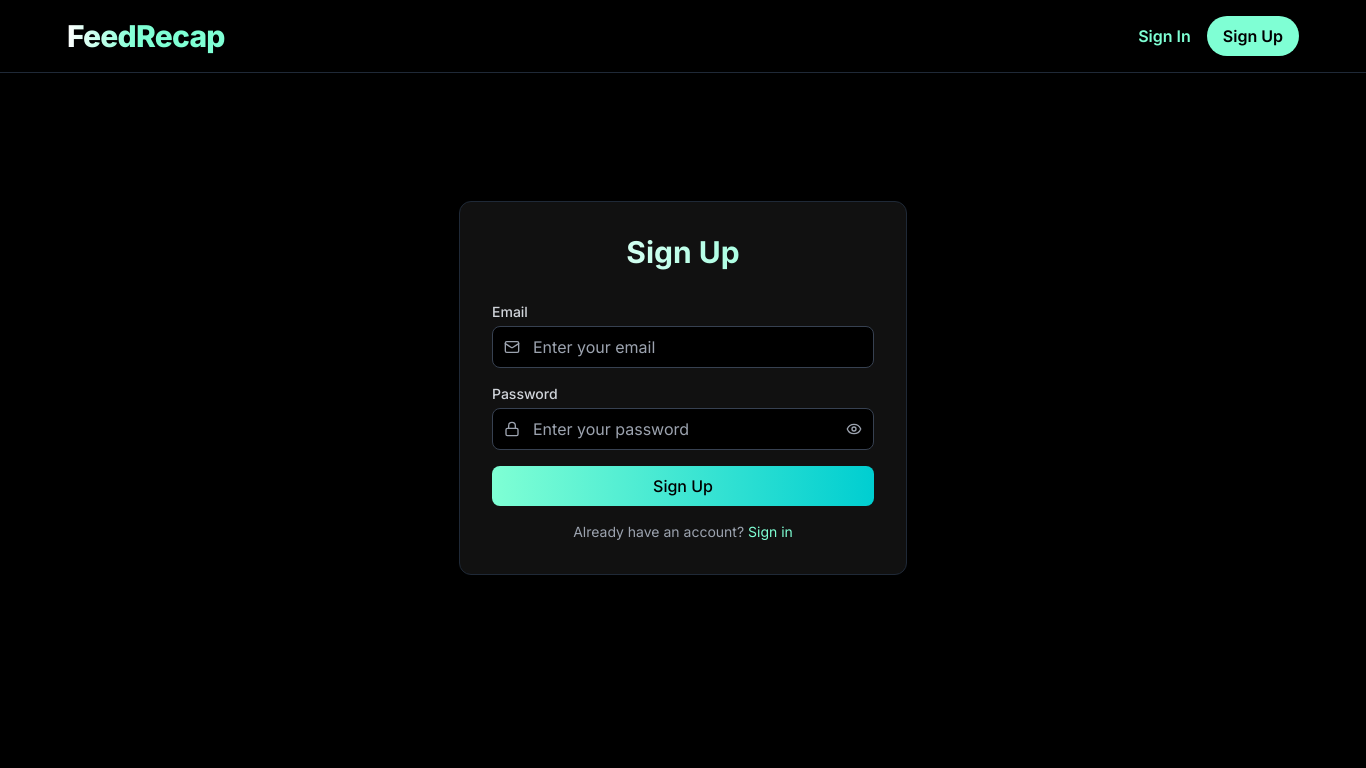
Test case: Signup page › shows an invalid-email error
In the field with placeholder "Enter your email": point(683, 347) x1=492 y1=326 x2=874 y2=368, type "not-an-email"
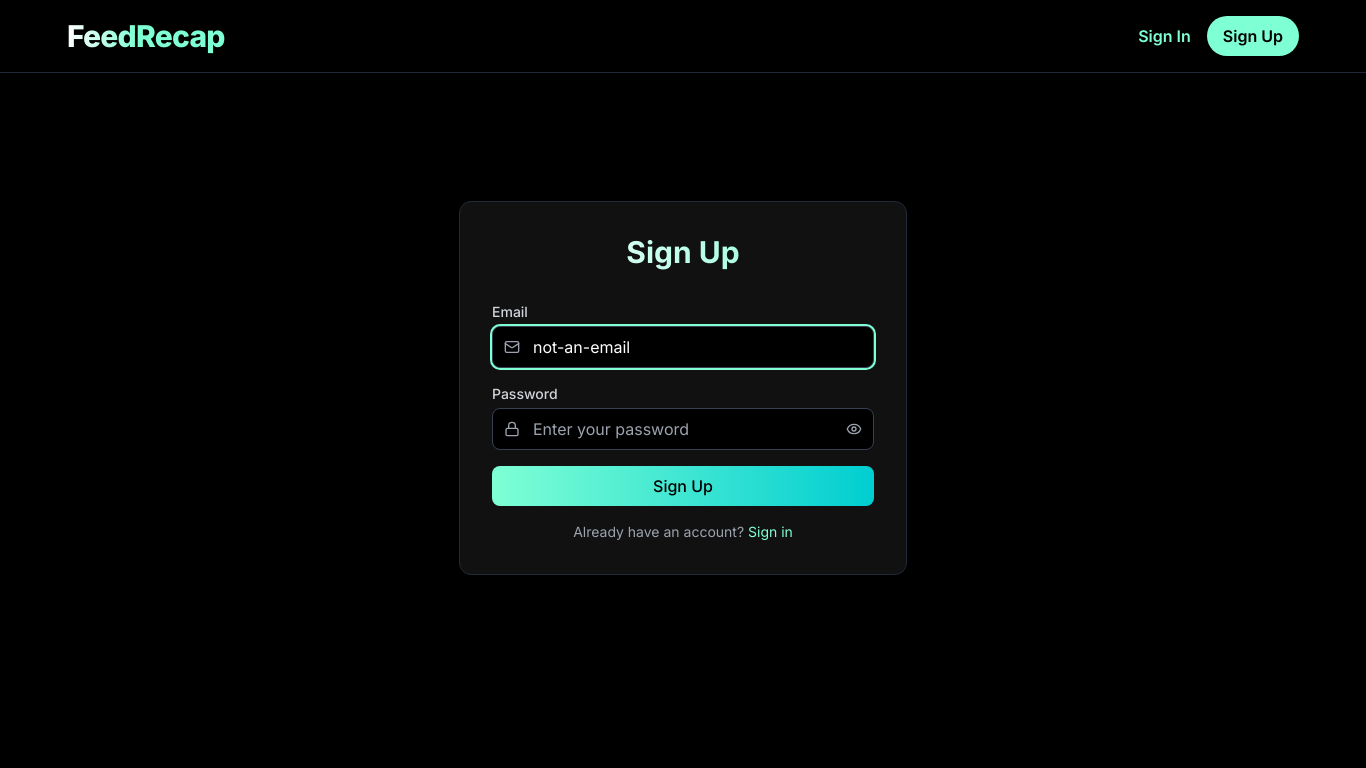
In the password field with placeholder "Enter your password": point(683, 429) x1=492 y1=408 x2=874 y2=450, type "password123"
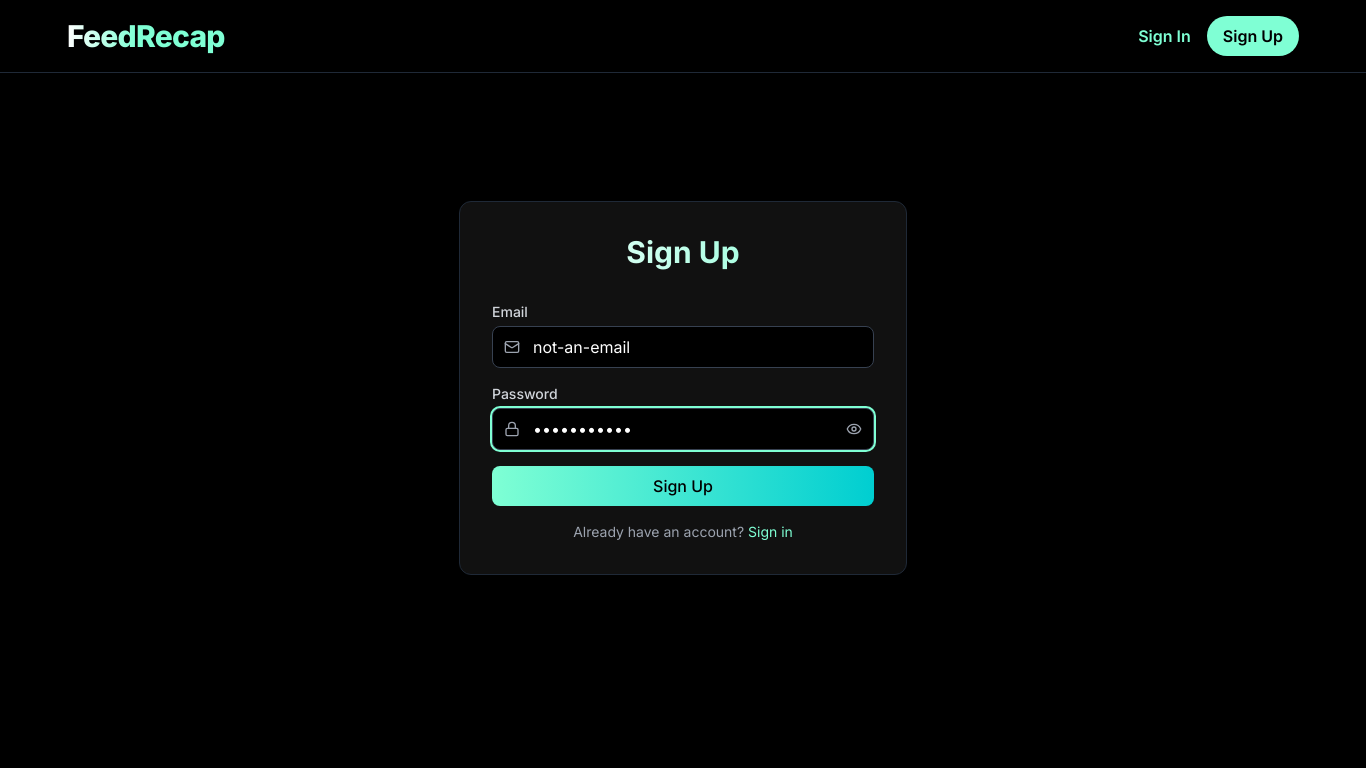
Click the button "Sign Up" below "Password": point(683, 486) x1=492 y1=466 x2=874 y2=506
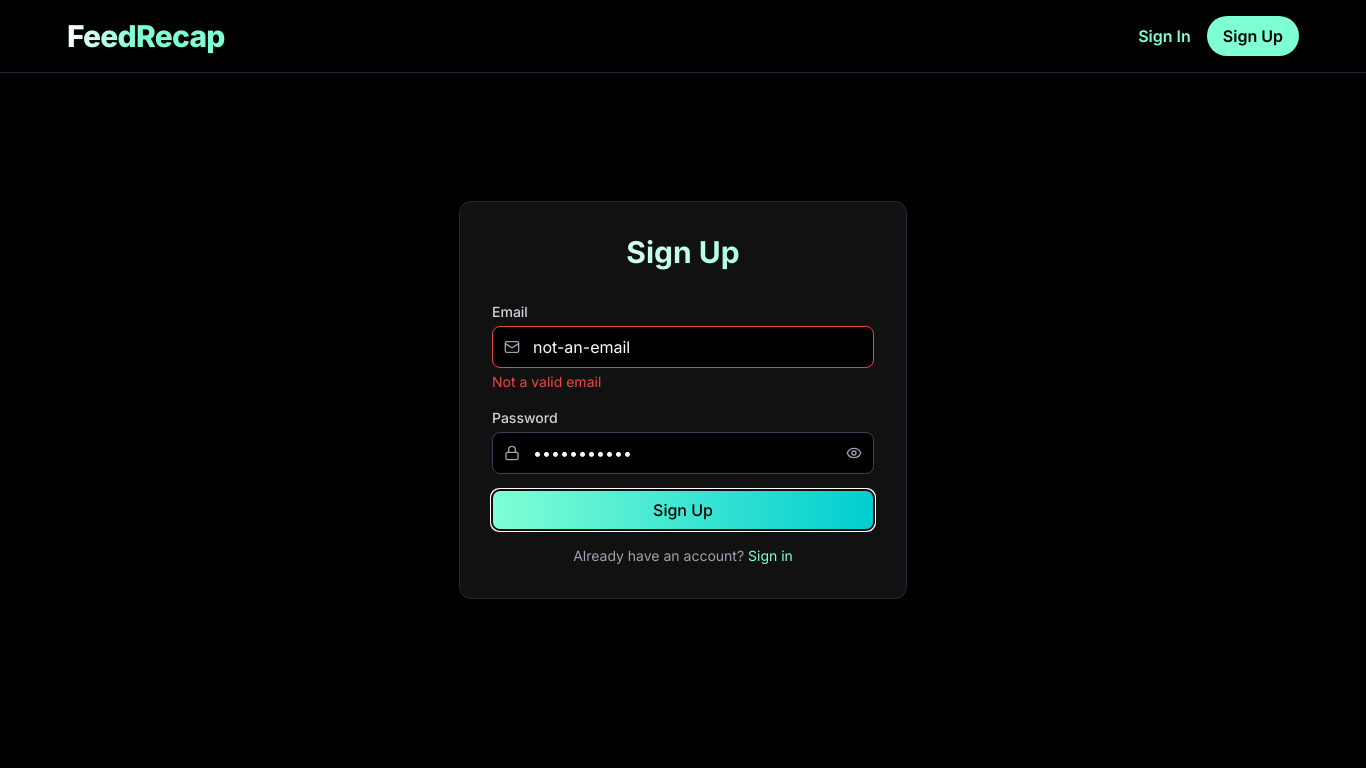
Check: the text "Not a valid email" is shown, box x1=492 y1=373 x2=601 y2=390
